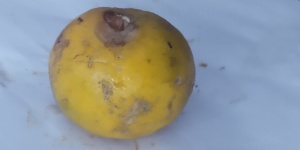BAD: (46, 3, 195, 140)
